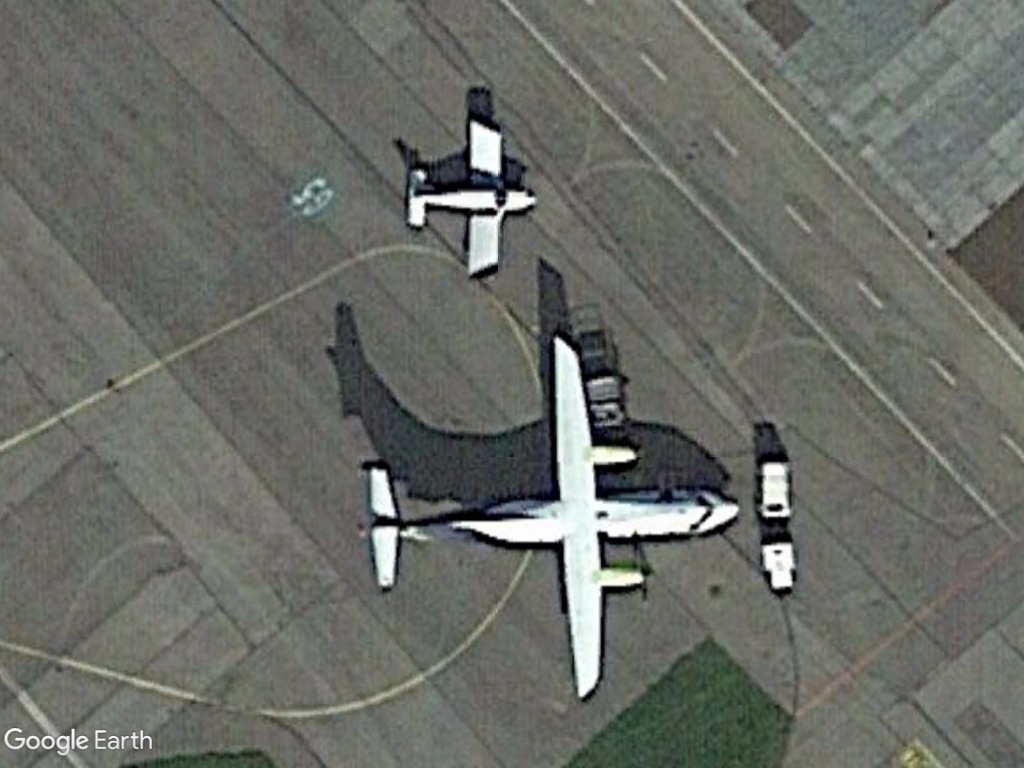propeller: (350, 328, 748, 710)
trainer: (403, 114, 540, 283)
